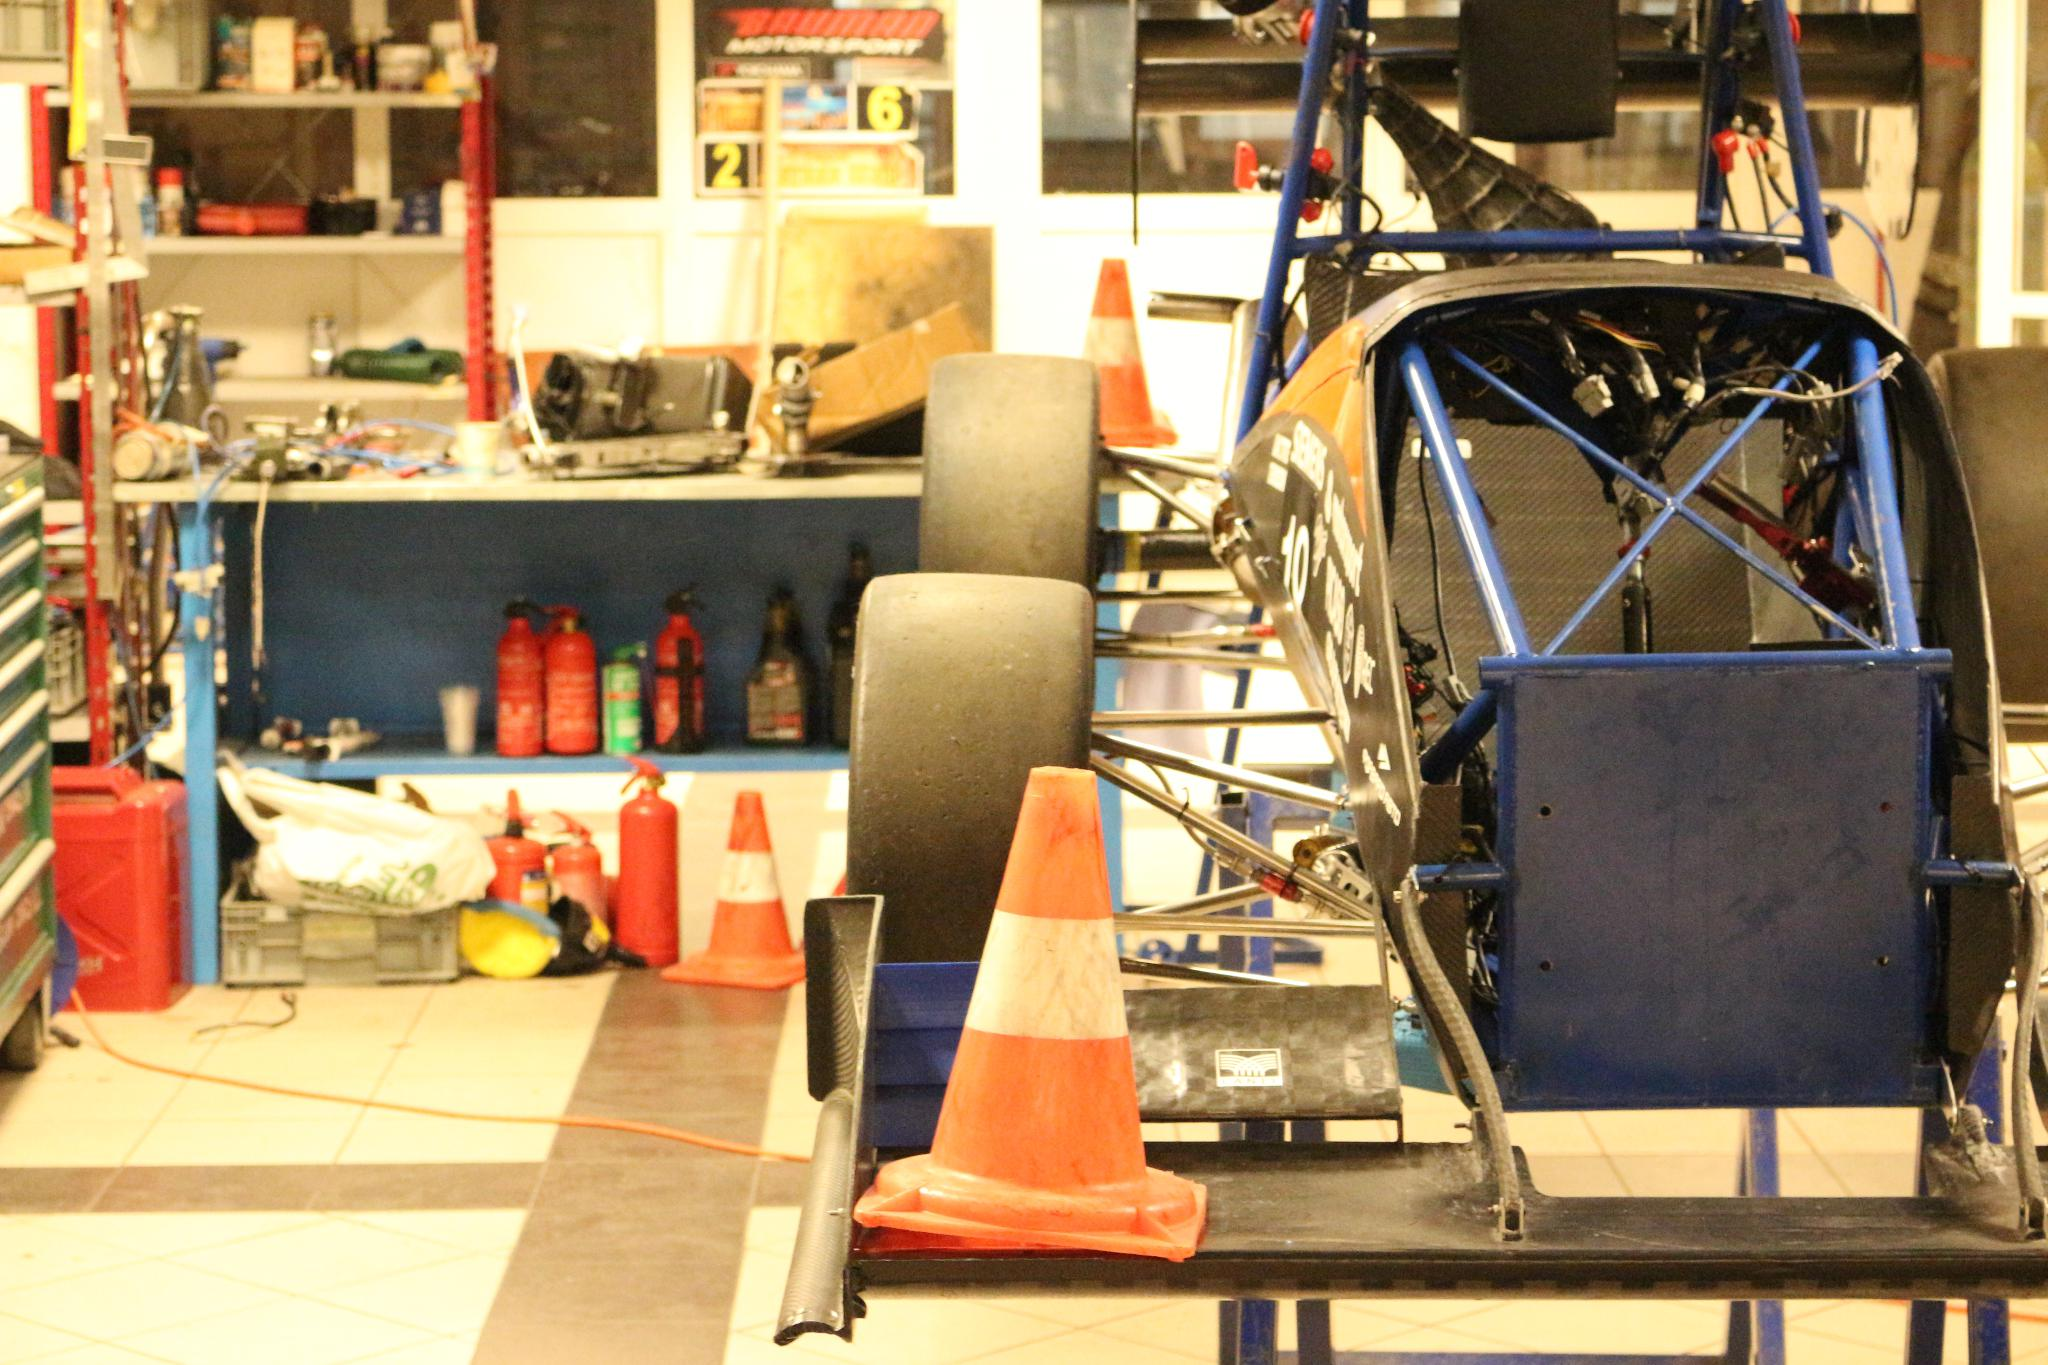Orange_Cone: (863, 762, 1221, 1263), (658, 785, 830, 1005), (1037, 256, 1191, 451)
